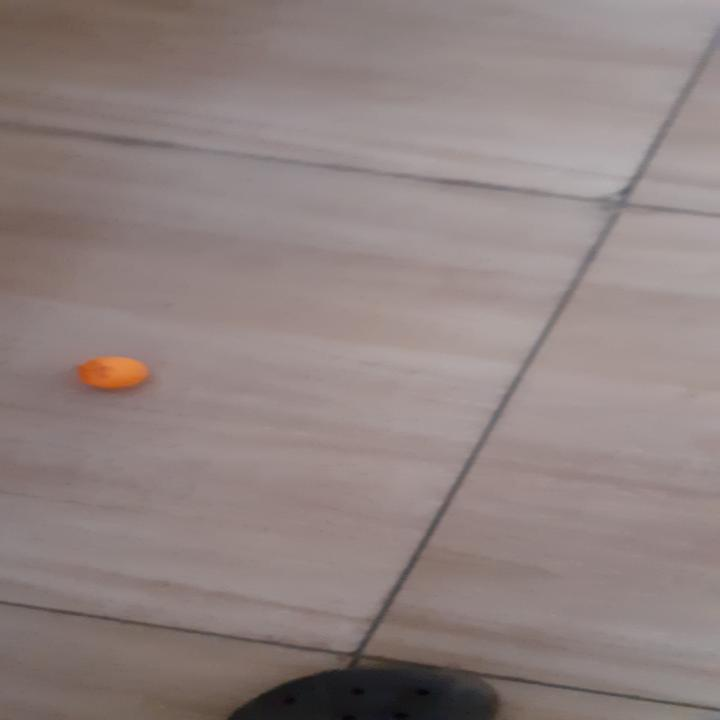orange: (77, 359, 147, 391)
